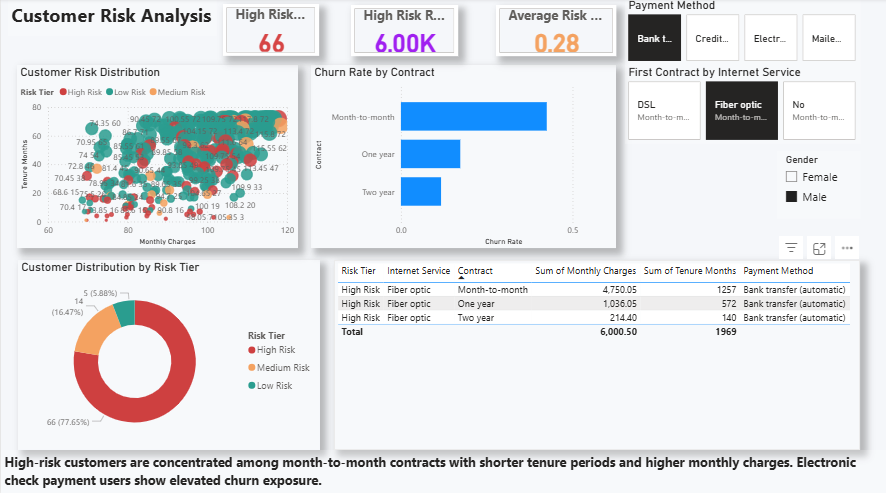

What the dashboard file says about the page in this screenshot:
{"tool":"powerbi","page":{"name":"Customer Risk Analysis","canvas":[1280,720],"ordinal":1},"visuals":[{"type":"textbox","box":[10.6,0,301.5,54.5],"z":0},{"type":"advancedSlicerVisual","fields":{"Values":["churn_predictions.Payment Method"]},"box":[901.5,0,340.9,97],"z":0,"group":"g1"},{"type":"cardVisual","fields":{"Data":["churn_predictions.High Risk Customers"]},"box":[321.5,8.8,138.6,75.2],"z":1000},{"type":"slicer","fields":{"Values":["churn_predictions.Gender"]},"box":[1121.2,221.2,121.2,98.5],"z":1000,"group":"g1"},{"type":"advancedSlicerVisual","fields":{"Values":["churn_predictions.Internet Service"],"Label":["Min(churn_predictions.Contract)"]},"box":[901.5,97,340.9,113.6],"z":2000,"group":"g1"},{"type":"scatterChart","title":"Customer Risk Distribution","fields":{"X":["churn_predictions.Monthly Charges"],"Y":["churn_predictions.Tenure Months"],"Series":["churn_predictions.Risk Tier"],"Size":["Avg(churn_predictions.Total Charges)"]},"box":[23.6,97.3,405.5,265.4],"z":2000},{"type":"cardVisual","fields":{"Data":["churn_predictions.High Risk Revenue"]},"box":[505.6,10.6,154.8,74.2],"z":3000},{"type":"donutChart","title":"Customer Distribution by Risk Tier","fields":{"Category":["churn_predictions.Risk Tier"],"Y":["churn_predictions.Churned Customers"]},"box":[24.2,378.8,436.4,274.2],"z":4000},{"type":"cardVisual","fields":{"Data":["churn_predictions.Average Risk Score"]},"box":[715.2,10.6,174.1,74.2],"z":5000},{"type":"clusteredBarChart","fields":{"Y":["churn_predictions.Churn Rate"],"Category":["churn_predictions.Contract","churn_predictions.Internet Service"]},"box":[448.3,97.3,440.9,265.4],"z":6000},{"type":"tableEx","fields":{"Values":["churn_predictions.Risk Tier","churn_predictions.Internet Service","churn_predictions.Contract","Sum(churn_predictions.Monthly Charges)","Sum(churn_predictions.Tenure Months)","churn_predictions.Payment Method"]},"box":[481.8,378.8,760.6,274.2],"z":7000},{"type":"group","id":"g1","title":"Group 2","box":[901.5,0,340.9,319.7],"z":8000},{"type":"textbox","box":[0,653,1280.3,66.7],"z":9000}]}

Visuals, with their boxes in screenshot pixels (x1, y1, x2, y2), scaled from the page's 1280x720 canvas onto the 886x493 screenshot:
textbox: bbox=(7, 0, 216, 37)
advancedSlicerVisual - churn_predictions.Payment Method: bbox=(624, 0, 860, 66)
cardVisual - churn_predictions.High Risk Customers: bbox=(223, 6, 318, 58)
slicer - churn_predictions.Gender: bbox=(776, 151, 860, 219)
advancedSlicerVisual - churn_predictions.Internet Service x Min(churn_predictions.Contract): bbox=(624, 66, 860, 144)
"Customer Risk Distribution" scatterChart: bbox=(16, 67, 297, 248)
cardVisual - churn_predictions.High Risk Revenue: bbox=(350, 7, 457, 58)
"Customer Distribution by Risk Tier" donutChart: bbox=(17, 259, 319, 447)
cardVisual - churn_predictions.Average Risk Score: bbox=(495, 7, 616, 58)
clusteredBarChart - churn_predictions.Churn Rate x churn_predictions.Contract: bbox=(310, 67, 615, 248)
tableEx - churn_predictions.Risk Tier x churn_predictions.Internet Service: bbox=(333, 259, 860, 447)
"Group 2" group: bbox=(624, 0, 860, 219)
textbox: bbox=(0, 447, 885, 492)
